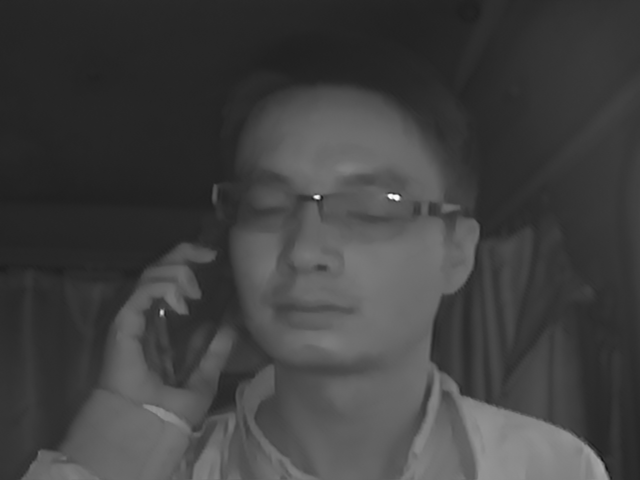hand: (100, 238, 233, 419)
